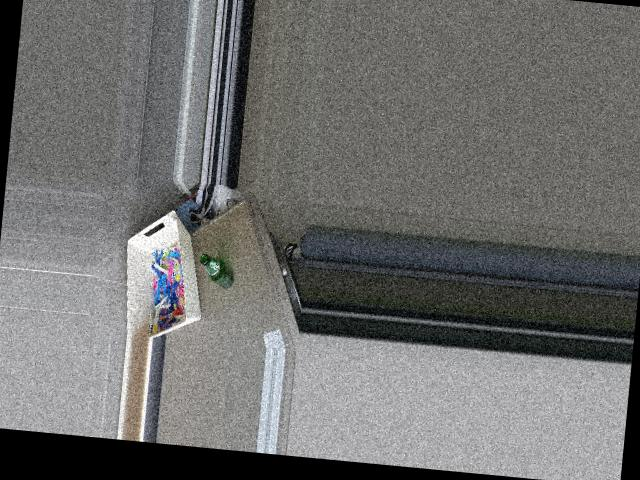beer: (199, 252, 236, 288)
